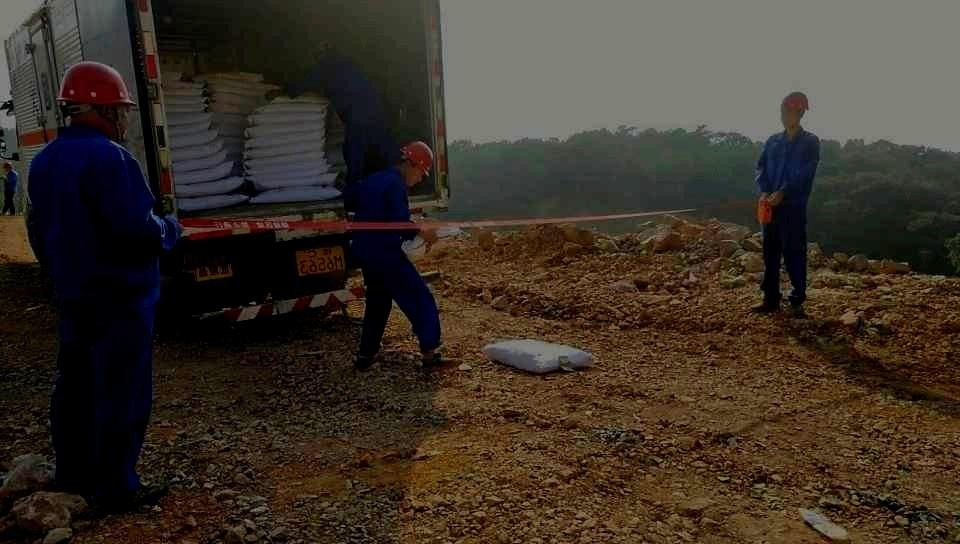helmet: (54, 60, 137, 146), (397, 140, 434, 186), (780, 91, 810, 129)
